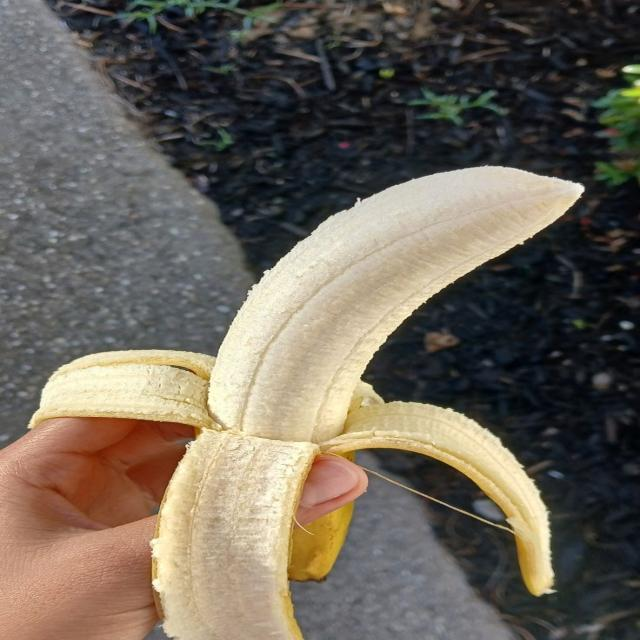banana: (32, 168, 581, 639)
